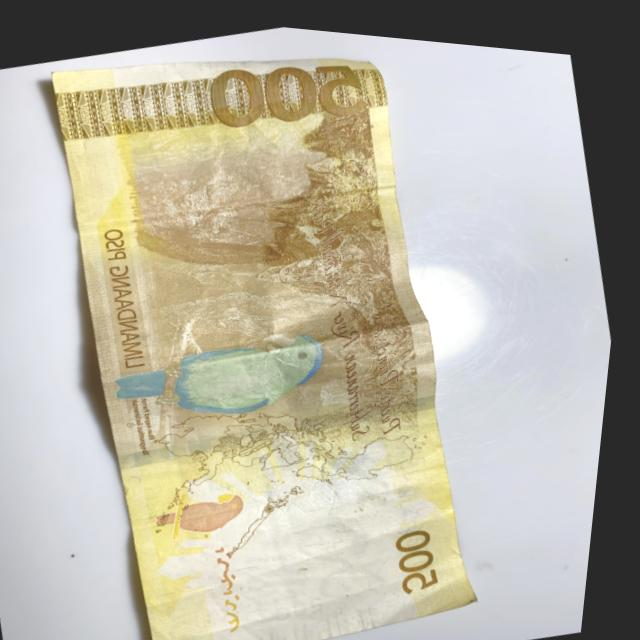500_big_parrot: (111, 299, 345, 445)
500_parrot_watermark: (155, 473, 262, 548)
value_watermark: (284, 580, 345, 620)
